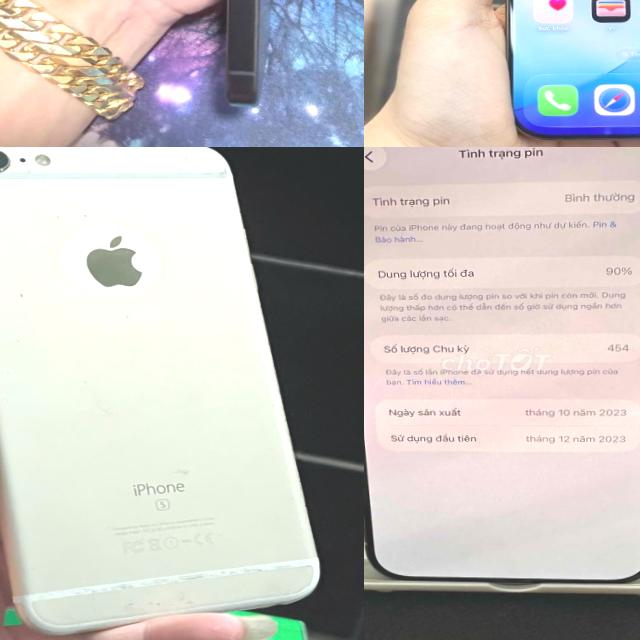gen_15: (364, 147, 640, 605), (186, 0, 306, 108)
gen_16: (474, 0, 640, 147)
gen_6: (0, 147, 326, 633)
